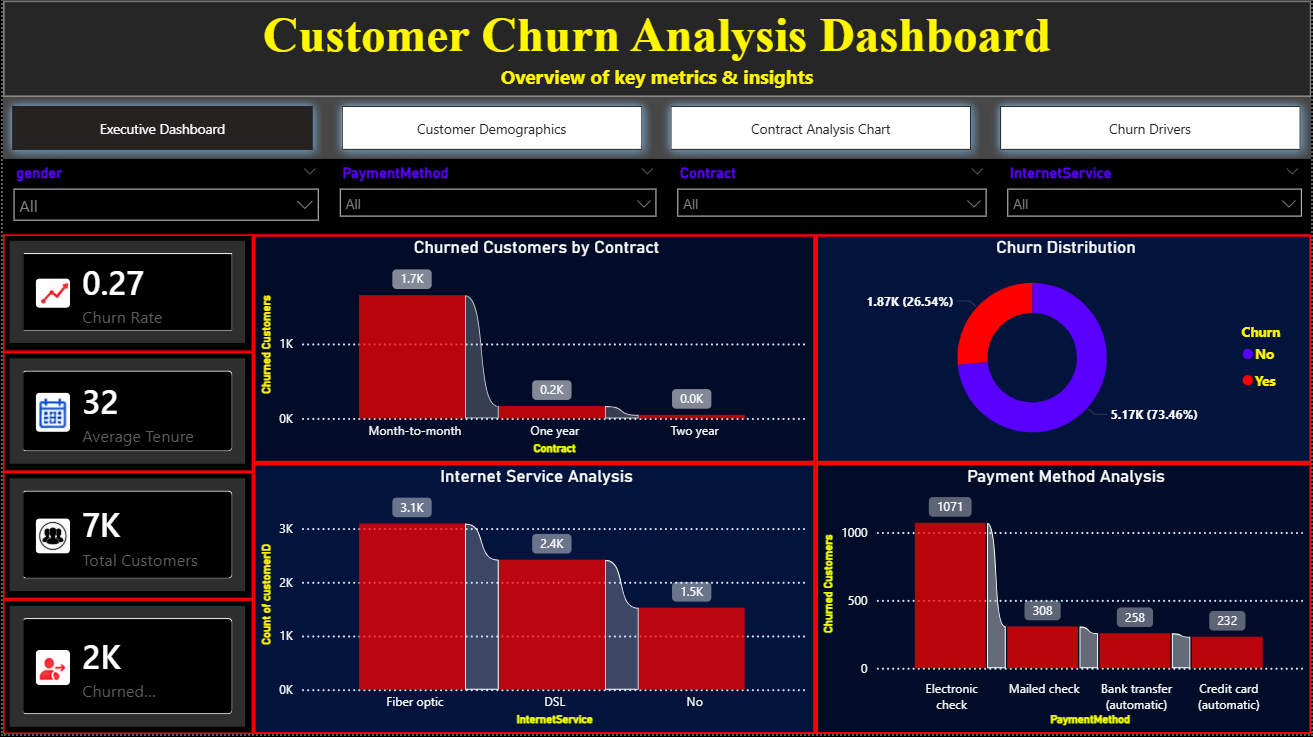

This screenshot's page, from the dashboard's own definition file:
{"tool":"powerbi","page":{"name":"Executive Dashboard","canvas":[1280,720],"ordinal":0},"visuals":[{"type":"textbox","box":[0,2.4,1280.3,94.2],"z":0},{"type":"slicer","fields":{"Values":["Telco_Customer_Churn_Dataset  (2).InternetService"]},"box":[972.2,157.7,308.2,73.4],"z":1000},{"type":"slicer","fields":{"Values":["Telco_Customer_Churn_Dataset  (2).gender"]},"box":[0,157.7,319.2,73.4],"z":2000},{"type":"slicer","fields":{"Values":["Telco_Customer_Churn_Dataset  (2).PaymentMethod"]},"box":[319.2,157.7,330.2,73.4],"z":3000},{"type":"slicer","fields":{"Values":["Telco_Customer_Churn_Dataset  (2).Contract"]},"box":[649.3,157.7,322.8,73.4],"z":4000},{"type":"pageNavigator","box":[0,96.6,1280.3,61.1],"z":5000},{"type":"columnChart","fields":{"Y":["Telco_Customer_Churn_Dataset  (2).Churned Customers"],"Category":["Telco_Customer_Churn_Dataset  (2).Contract"]},"box":[244.6,231.1,550.3,223.8],"z":6000},{"type":"donutChart","title":"Churn Distribution","fields":{"Category":["Telco_Customer_Churn_Dataset  (2).Churn"],"Y":["CountNonNull(Telco_Customer_Churn_Dataset  (2).customerID)"]},"box":[794.8,231.1,485.5,223.8],"z":7000},{"type":"columnChart","title":"Internet Service Analysis","fields":{"Category":["Telco_Customer_Churn_Dataset  (2).InternetService"],"Y":["Count(Telco_Customer_Churn_Dataset  (2).customerID)"]},"box":[244.6,454.9,550.3,265.4],"z":8000},{"type":"columnChart","title":"Payment Method Analysis","fields":{"Category":["Telco_Customer_Churn_Dataset  (2).PaymentMethod"],"Y":["Telco_Customer_Churn_Dataset  (2).Churned Customers"]},"box":[794.8,454.9,485.5,265.4],"z":9000},{"type":"cardVisual","fields":{"Data":["Telco_Customer_Churn_Dataset  (2).Total Customers"]},"box":[0,463.5,244.6,124.7],"z":10000},{"type":"cardVisual","fields":{"Data":["Telco_Customer_Churn_Dataset  (2).Churn Rate"]},"box":[0,231.1,244.6,114.9],"z":11000},{"type":"cardVisual","fields":{"Data":["Telco_Customer_Churn_Dataset  (2).Average Tenure"]},"box":[0,346.1,244.6,117.4],"z":12000},{"type":"cardVisual","fields":{"Data":["Telco_Customer_Churn_Dataset  (2).Churned Customers"]},"box":[0,588.2,244.6,132.1],"z":13000}]}

Visuals, with their boxes in screenshot pixels (x1, y1, x2, y2), scaled from the page's 1280x720 canvas onto the 1313x737 screenshot:
textbox: [left=0, top=2, right=1312, bottom=99]
slicer - Telco_Customer_Churn_Dataset  (2).InternetService: [left=997, top=161, right=1312, bottom=237]
slicer - Telco_Customer_Churn_Dataset  (2).gender: [left=0, top=161, right=327, bottom=237]
slicer - Telco_Customer_Churn_Dataset  (2).PaymentMethod: [left=327, top=161, right=666, bottom=237]
slicer - Telco_Customer_Churn_Dataset  (2).Contract: [left=666, top=161, right=997, bottom=237]
pageNavigator: [left=0, top=99, right=1312, bottom=161]
columnChart - Telco_Customer_Churn_Dataset  (2).Churned Customers x Telco_Customer_Churn_Dataset  (2).Contract: [left=251, top=237, right=815, bottom=466]
"Churn Distribution" donutChart: [left=815, top=237, right=1312, bottom=466]
"Internet Service Analysis" columnChart: [left=251, top=466, right=815, bottom=736]
"Payment Method Analysis" columnChart: [left=815, top=466, right=1312, bottom=736]
cardVisual - Telco_Customer_Churn_Dataset  (2).Total Customers: [left=0, top=474, right=251, bottom=602]
cardVisual - Telco_Customer_Churn_Dataset  (2).Churn Rate: [left=0, top=237, right=251, bottom=354]
cardVisual - Telco_Customer_Churn_Dataset  (2).Average Tenure: [left=0, top=354, right=251, bottom=474]
cardVisual - Telco_Customer_Churn_Dataset  (2).Churned Customers: [left=0, top=602, right=251, bottom=736]
